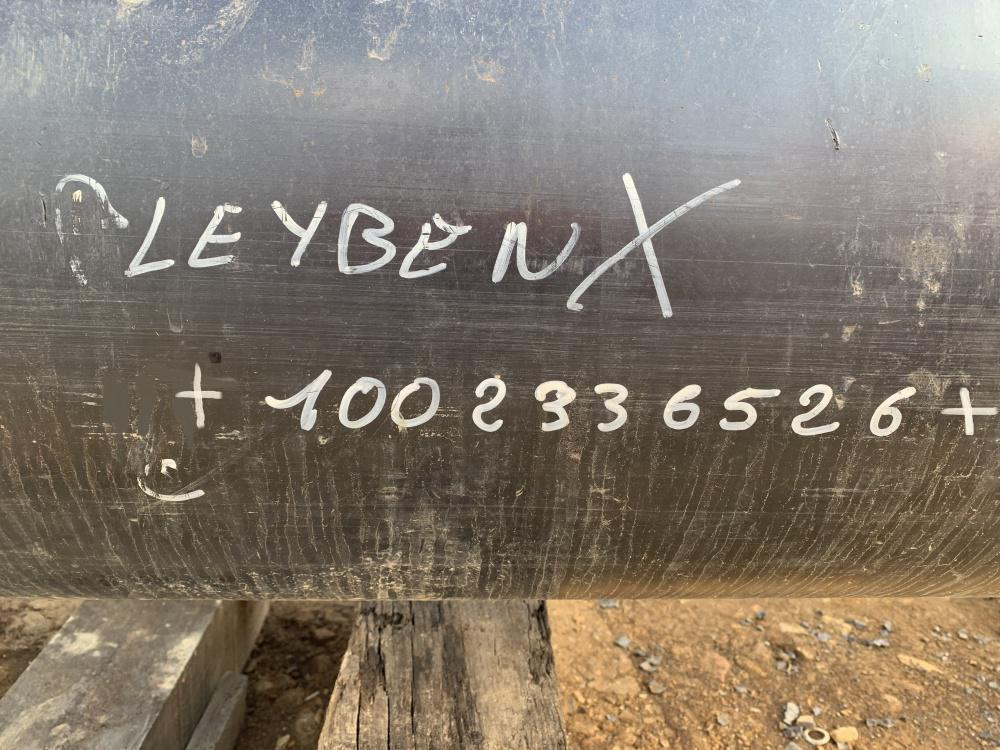+: (939, 384, 996, 436), (178, 362, 219, 429)
0: (394, 375, 438, 428), (340, 379, 384, 428)
1: (266, 368, 330, 432)
2: (794, 384, 840, 442), (474, 374, 508, 430)
3: (536, 378, 576, 434), (590, 382, 630, 434)
5: (722, 385, 783, 438)
6: (867, 382, 917, 441), (664, 384, 706, 432)
B: (336, 202, 397, 274)
E: (403, 212, 473, 286), (192, 203, 244, 271)
L: (128, 197, 176, 278)
N: (491, 218, 580, 292)
X: (566, 174, 748, 318)
Y: (270, 196, 328, 270)
